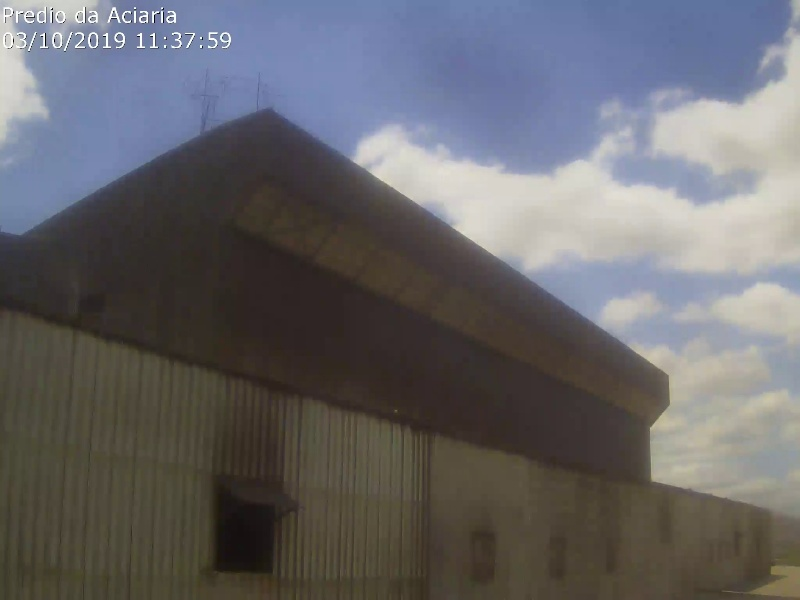bom: (260, 6, 703, 436)
